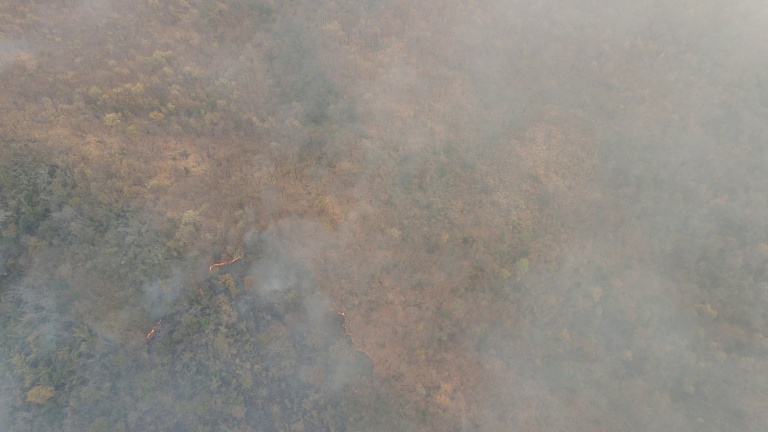fire: (327, 307, 377, 374), (197, 252, 247, 282), (143, 312, 169, 340)
smoke: (1, 211, 768, 430), (292, 1, 768, 212)
